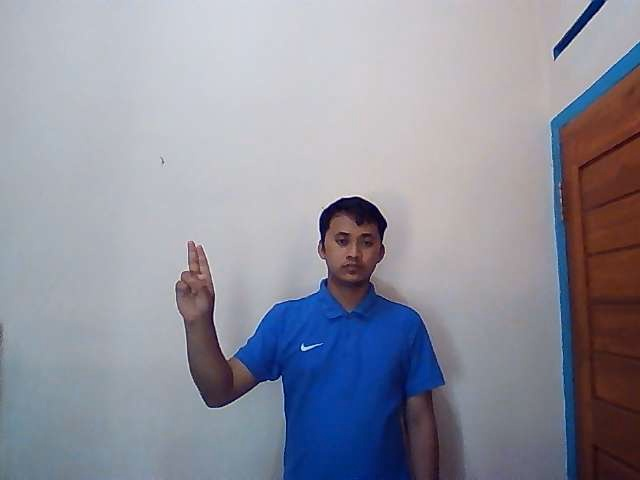U: (174, 240, 217, 320)
